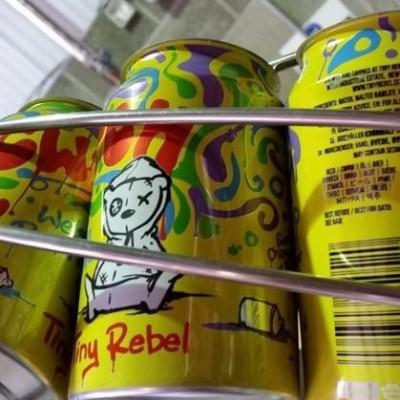beer: (6, 9, 398, 400)
